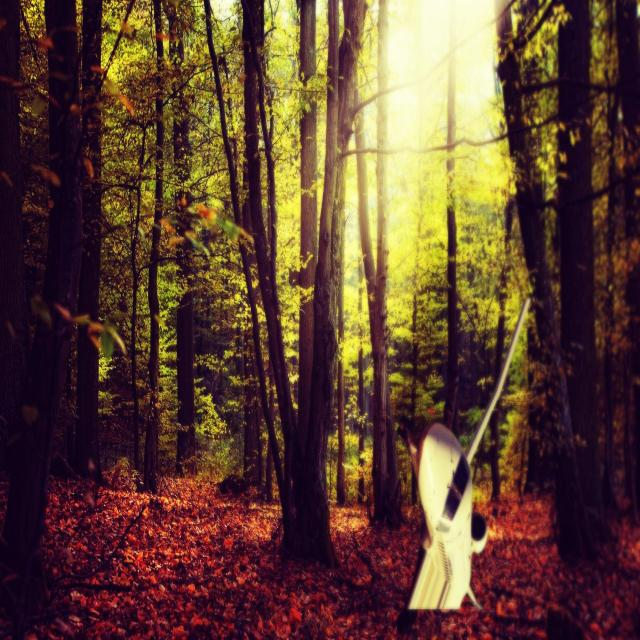airplane: (396, 296, 530, 612)
